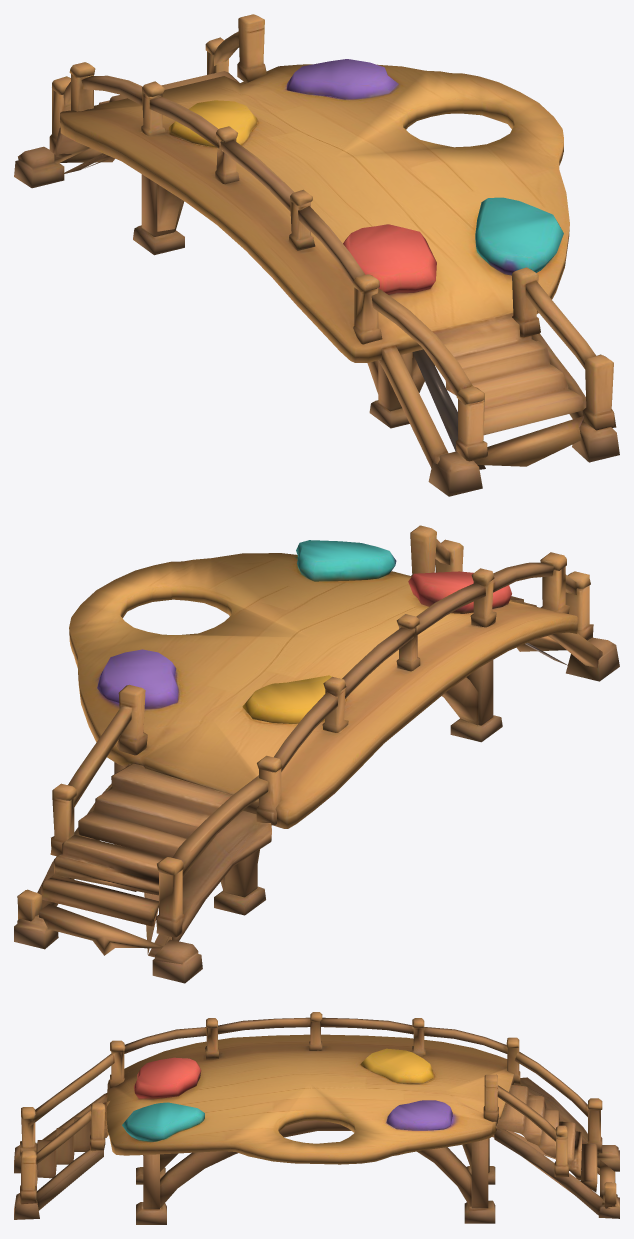
File: palette-bridge-web.glb
3 renders of one model, top to bottom at view 1: azimuth 30°, elevation 25°; view 2: azimuth 150°, elevation 25°; view 3: azimuth 270°, elevation 25°, orthographic. The views are drawn at different scales.
Parts seen in each view (by area): view 1: tripo_node_1cbe6c59-5559-426b-94e1-b661eb653c59; view 2: tripo_node_1cbe6c59-5559-426b-94e1-b661eb653c59; view 3: tripo_node_1cbe6c59-5559-426b-94e1-b661eb653c59.
Part boxes in pixels (x1,y1,x2,y2): tripo_node_1cbe6c59-5559-426b-94e1-b661eb653c59: (14, 14, 619, 496); tripo_node_1cbe6c59-5559-426b-94e1-b661eb653c59: (14, 525, 619, 983); tripo_node_1cbe6c59-5559-426b-94e1-b661eb653c59: (14, 1012, 619, 1224).
Size of the model in its own units: 0.4668 by 0.2754 by 0.998.
Materials: 1 (1 with a texture image).
